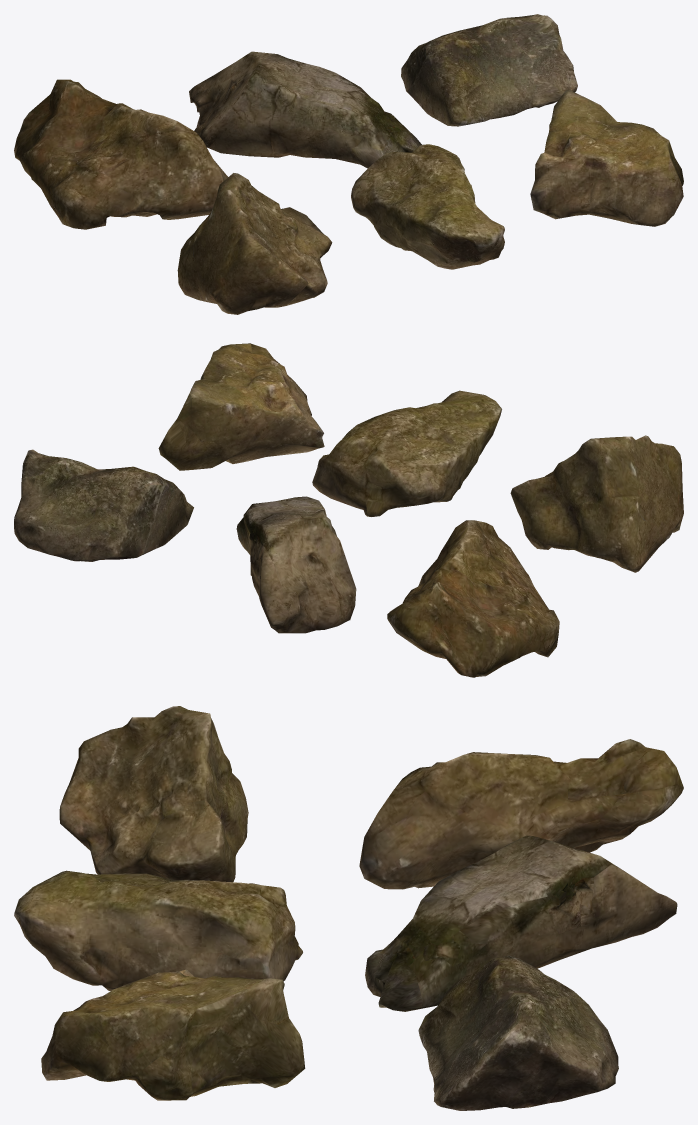
File: rock_moss_set_01.glb
The picture shows the model from 3 angles, top to bottom: view 1: azimuth 30°, elevation 25°; view 2: azimuth 150°, elevation 25°; view 3: azimuth 270°, elevation 25°; orthographic projection. The views are drawn at different scales.
Parts seen in each view (by area): view 1: rock_moss_set_01_rock01, rock_moss_set_01_rock02, rock_moss_set_01_rock06, rock_moss_set_01_rock04, rock_moss_set_01_rock03, rock_moss_set_01_rock05; view 2: rock_moss_set_01_rock04, rock_moss_set_01_rock01, rock_moss_set_01_rock05, rock_moss_set_01_rock03, rock_moss_set_01_rock06, rock_moss_set_01_rock02; view 3: rock_moss_set_01_rock01, rock_moss_set_01_rock02, rock_moss_set_01_rock05, rock_moss_set_01_rock04, rock_moss_set_01_rock06, rock_moss_set_01_rock03.
Part boxes in pixels (left/top/right/bottom): rock_moss_set_01_rock01: left=14, top=79, right=227, bottom=229; rock_moss_set_01_rock02: left=189, top=51, right=421, bottom=168; rock_moss_set_01_rock06: left=530, top=89, right=683, bottom=226; rock_moss_set_01_rock04: left=177, top=173, right=332, bottom=314; rock_moss_set_01_rock03: left=401, top=14, right=577, bottom=126; rock_moss_set_01_rock05: left=351, top=144, right=504, bottom=269; rock_moss_set_01_rock04: left=510, top=435, right=683, bottom=572; rock_moss_set_01_rock01: left=387, top=520, right=559, bottom=677; rock_moss_set_01_rock05: left=312, top=390, right=501, bottom=516; rock_moss_set_01_rock03: left=14, top=449, right=193, bottom=561; rock_moss_set_01_rock06: left=158, top=343, right=324, bottom=470; rock_moss_set_01_rock02: left=236, top=496, right=356, bottom=633; rock_moss_set_01_rock01: left=359, top=739, right=683, bottom=889; rock_moss_set_01_rock02: left=365, top=835, right=677, bottom=1011; rock_moss_set_01_rock05: left=14, top=870, right=302, bottom=990; rock_moss_set_01_rock04: left=59, top=706, right=248, bottom=882; rock_moss_set_01_rock06: left=41, top=969, right=305, bottom=1100; rock_moss_set_01_rock03: left=418, top=955, right=618, bottom=1110.
Size of the model in its own units: 8 by 1.76 by 6.94.
1 material, 1 textured.
